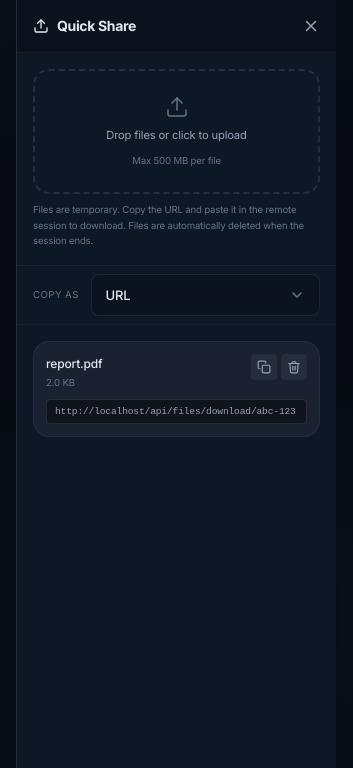
Test: QuickShare › deletes a file when delete button is clicked
Expected: the text "report.pdf" is shown, [46,356,102,371]
Click the button titled "Delete file": (294, 367) [281,354,307,380]
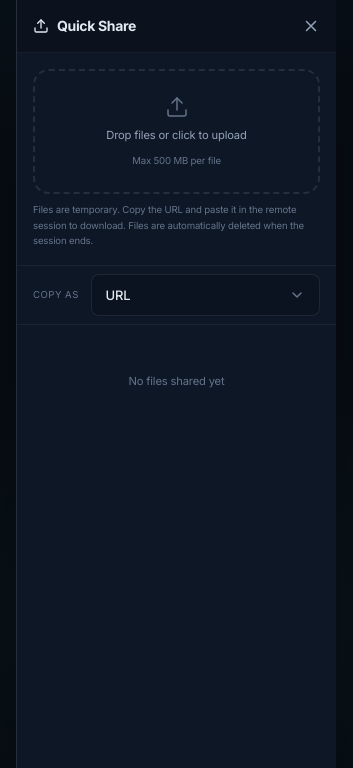
Expected: the text "report.pdf" is gone
